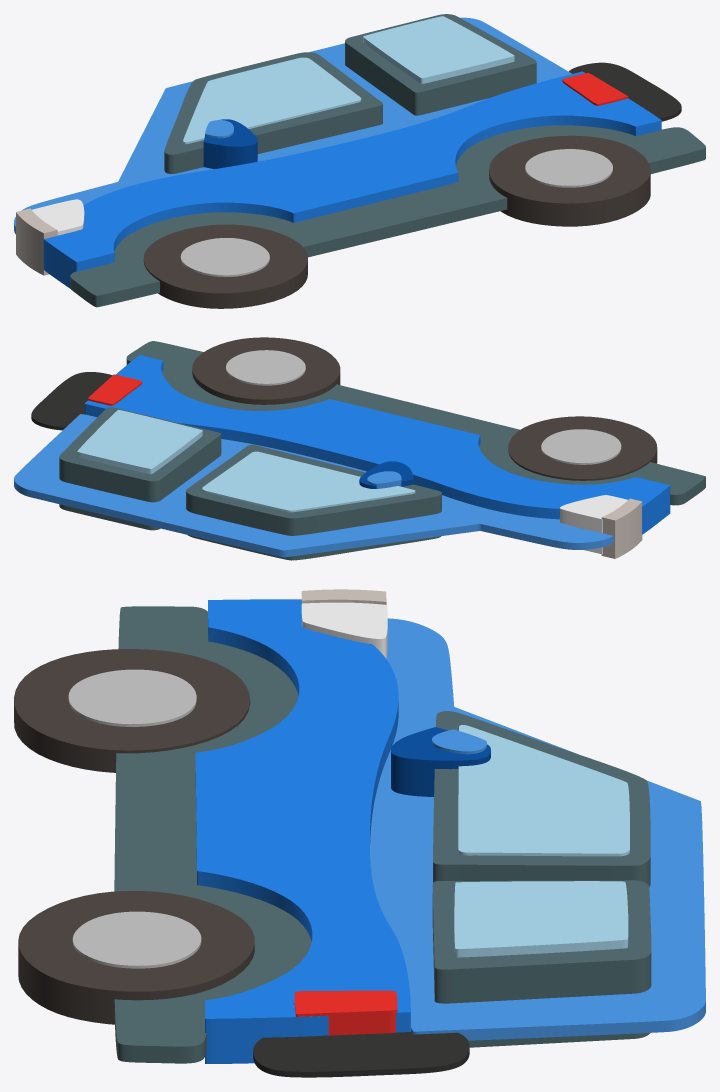
The model's file is emoji_u1f699.glb.
3 views of the same model, one above another, from view 1: azimuth 30°, elevation 25°; view 2: azimuth 150°, elevation 25°; view 3: azimuth 270°, elevation 25° (orthographic). The views are drawn at different scales.
Visible parts, largest first — view 1: emoji_u1f699; view 2: emoji_u1f699; view 3: emoji_u1f699.
Boxes of the visible parts, left/top/right/bottom form: emoji_u1f699: left=14, top=14, right=705, bottom=308; emoji_u1f699: left=14, top=337, right=705, bottom=560; emoji_u1f699: left=14, top=589, right=705, bottom=1077.
Size of the model in its own units: 0.0349 by 0.0034 by 0.0222.
